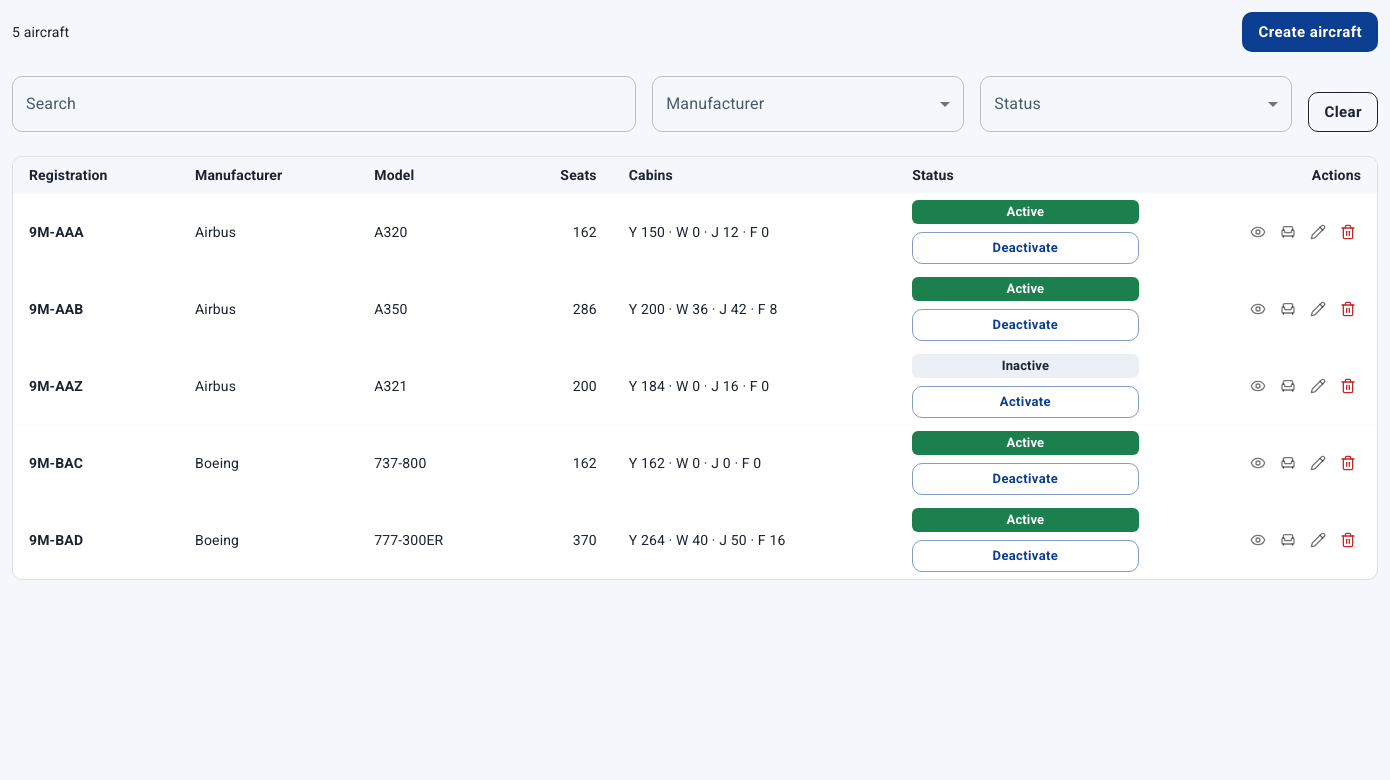
Scenario: AdminAircraftView › shows an error when toggling active status fails
The image size is (1390, 780).
Check: the text "9M-AAZ" is shown, box [29,378,83,394]
Click the button "Activate" at [1025, 402], box [912,386,1139,418]
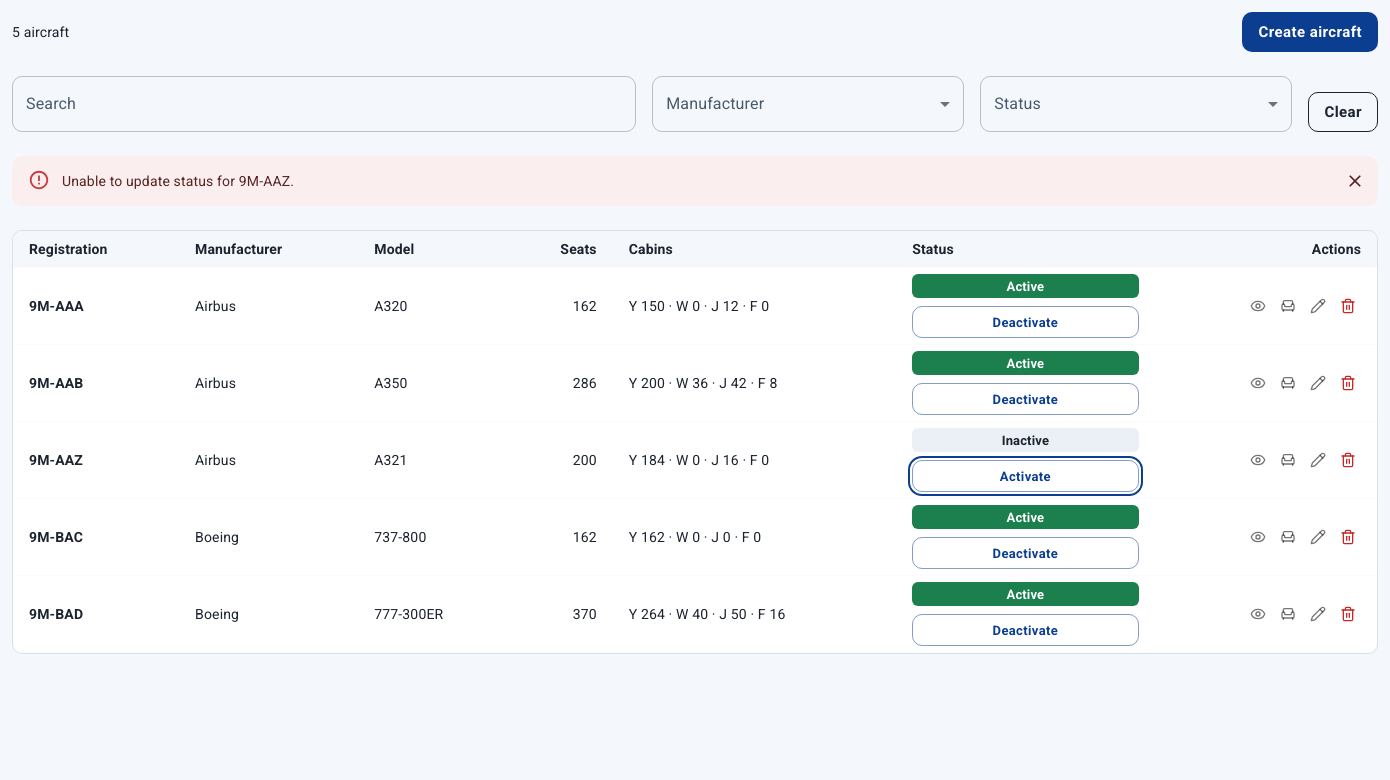
Check: the text "Unable to update status for 9M-AAZ." is shown, box [62,173,294,189]
